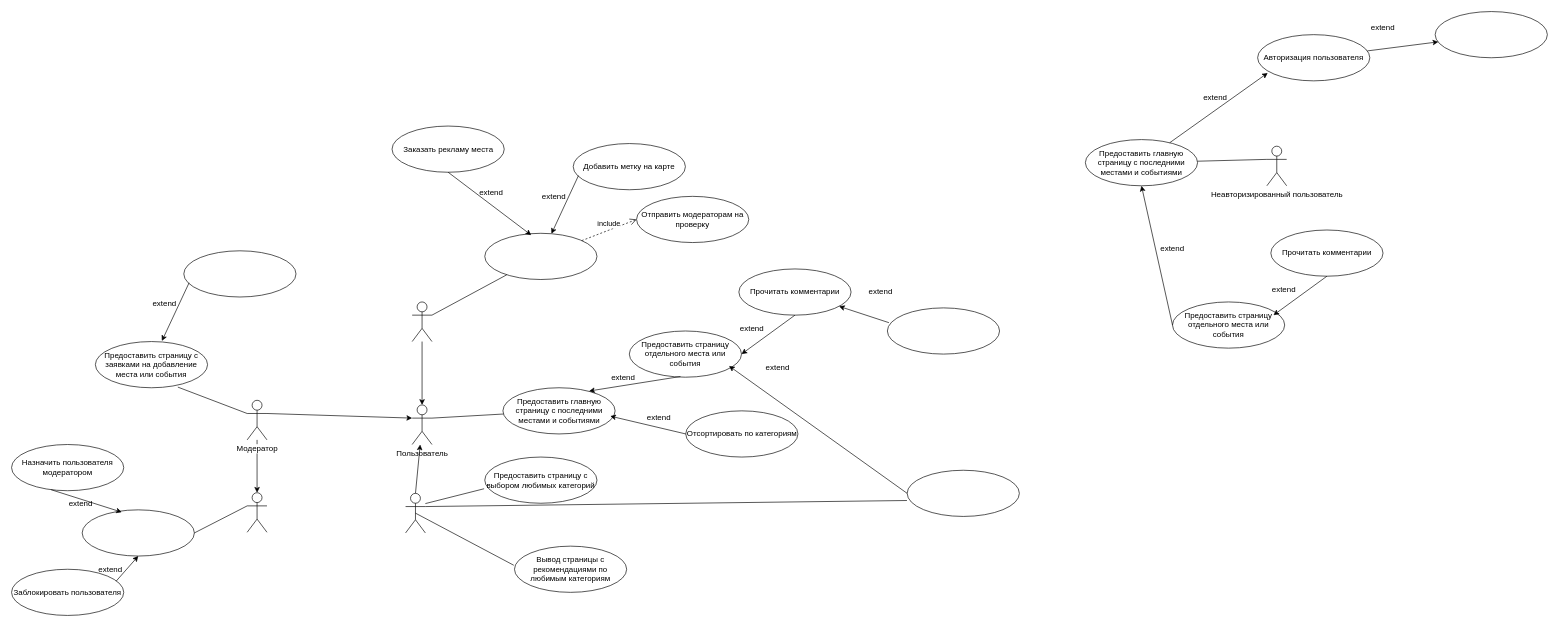
Some shapes in this 1559 by 627 pixel diagram are drawn without their labels. Each missing label, with the centre of its shape:
Администратор: (257,512)
Нажать кнопку "Хочу пойти": (963,493)
Обычный горожанин: (415,513)
Одобрить или отклонить событие: (239,273)
Организатор: (422,321)
Оставить комментарий: (943,330)
Предоставить страницу всех пользователей: (138,532)
Регистрация пользователя в системе: (1491,34)
Составить новое место или событие: (540,256)
